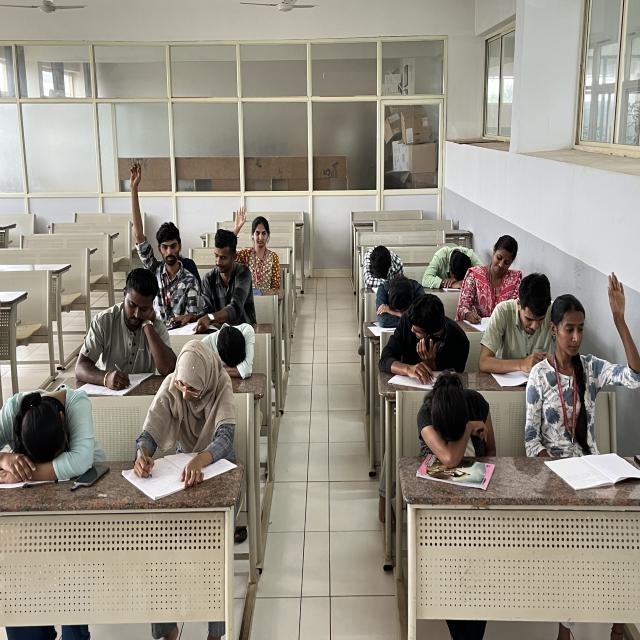Hand Rising: (535, 265, 640, 426), (125, 159, 198, 292), (233, 206, 282, 284)
Sleeping: (2, 384, 100, 479), (412, 369, 498, 463), (203, 322, 261, 382), (421, 235, 482, 292), (375, 276, 425, 335), (360, 239, 404, 284)
Using Phone: (386, 292, 474, 378)
Writing: (131, 350, 236, 493), (74, 272, 176, 395), (455, 234, 526, 332)
